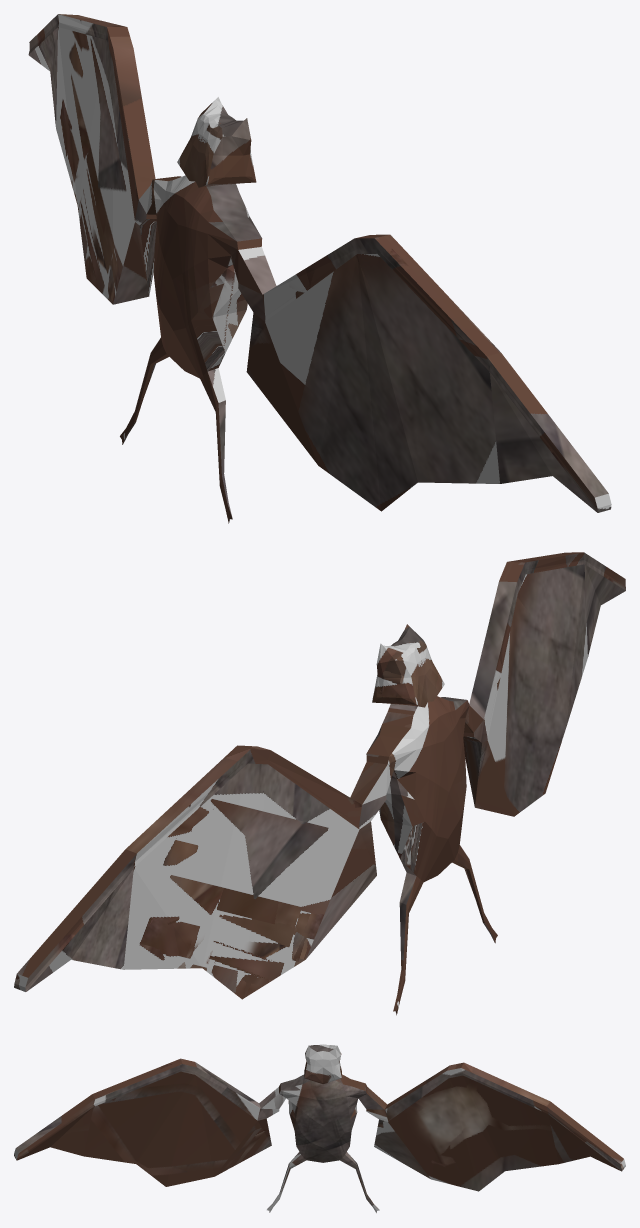
Rendered from Enemigo126.obj.
The picture shows the model from 3 angles, top to bottom: view 1: azimuth 30°, elevation 25°; view 2: azimuth 150°, elevation 25°; view 3: azimuth 270°, elevation 25°; orthographic projection. The views are drawn at different scales.
Visible parts, largest first — view 1: Plano; view 2: Plano; view 3: Plano.
Boxes of the visible parts, left/top/right/bottom form: Plano: left=28, top=14, right=611, bottom=523; Plano: left=14, top=552, right=625, bottom=1015; Plano: left=14, top=1044, right=625, bottom=1212.
Size of the model in its own units: 0.3794 by 0.7498 by 2.29.
1 material, 1 textured.
